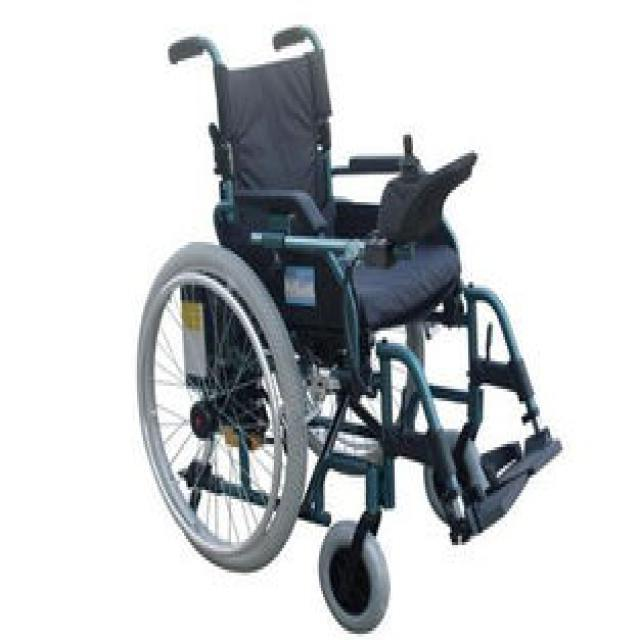wheelchair: (133, 6, 566, 631)
